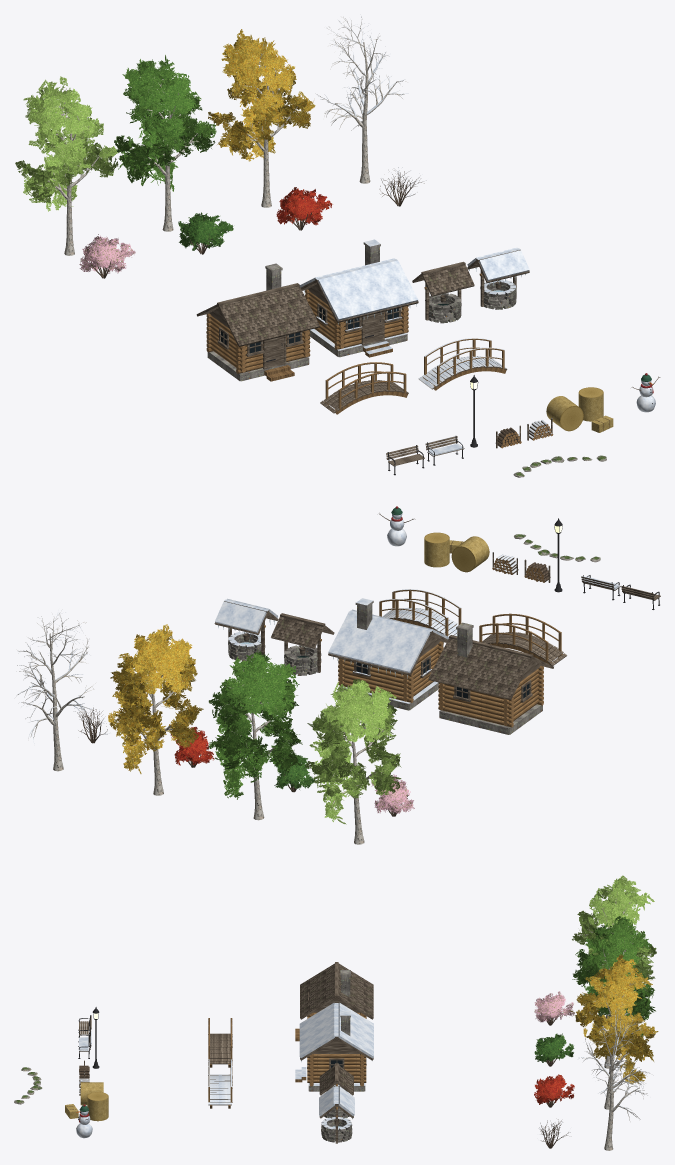
Rendered from realistic_props.glb.
3 renders of one model, top to bottom at view 1: azimuth 30°, elevation 25°; view 2: azimuth 150°, elevation 25°; view 3: azimuth 270°, elevation 25°, orthographic. The views are drawn at different scales.
Parts seen in each view (by area): view 1: Prop_Cabin_Mesh, Prop_Cabin_Winter_Mesh, Prop_Birch_Summer_Leaves, Prop_Birch_Autumn_Leaves, Prop_Birch_Spring_Leaves, Prop_Birch_Winter_Branches, Prop_Well_Winter_Mesh, Prop_Well_Mesh, Prop_Bridge_Mesh, Prop_Bridge_Winter_Mesh, Prop_HayBales_Mesh, Prop_Shrub_Autumn_Leaves (+5 smaller); view 2: Prop_Cabin_Mesh, Prop_Birch_Summer_Leaves, Prop_Birch_Autumn_Leaves, Prop_Cabin_Winter_Mesh, Prop_Birch_Spring_Leaves, Prop_Birch_Winter_Branches, Prop_Well_Winter_Mesh, Prop_Well_Mesh, Prop_Bridge_Mesh, Prop_HayBales_Mesh, Prop_Bridge_Winter_Mesh, Prop_Shrub_Spring_Leaves (+5 smaller); view 3: Prop_Birch_Autumn_Leaves, Prop_Cabin_Winter_Mesh, Prop_Birch_Summer_Leaves, Prop_Birch_Spring_Leaves, Prop_Cabin_Mesh, Prop_Birch_Winter_Branches, Prop_Well_Winter_Mesh, Prop_HayBales_Mesh, Prop_Bridge_Winter_Mesh, Prop_Well_Mesh, Prop_Bridge_Mesh, Prop_Shrub_Autumn_Leaves (+2 smaller).
Part boxes in pixels (left/top/right/bottom): Prop_Cabin_Mesh: left=196, top=263, right=319, bottom=381; Prop_Cabin_Winter_Mesh: left=299, top=239, right=418, bottom=357; Prop_Birch_Summer_Leaves: left=114, top=55, right=216, bottom=191; Prop_Birch_Autumn_Leaves: left=208, top=29, right=315, bottom=161; Prop_Birch_Spring_Leaves: left=15, top=76, right=118, bottom=211; Prop_Birch_Winter_Branches: left=316, top=16, right=408, bottom=183; Prop_Well_Winter_Mesh: left=467, top=247, right=529, bottom=309; Prop_Well_Mesh: left=412, top=261, right=474, bottom=323; Prop_Bridge_Mesh: left=320, top=362, right=408, bottom=414; Prop_Bridge_Winter_Mesh: left=418, top=338, right=507, bottom=390; Prop_HayBales_Mesh: left=546, top=387, right=613, bottom=432; Prop_Shrub_Autumn_Leaves: left=276, top=187, right=332, bottom=225; Prop_Cabin_Mesh: left=428, top=622, right=553, bottom=734; Prop_Birch_Summer_Leaves: left=208, top=650, right=302, bottom=799; Prop_Birch_Autumn_Leaves: left=108, top=624, right=203, bottom=773; Prop_Cabin_Winter_Mesh: left=328, top=598, right=448, bottom=710; Prop_Birch_Spring_Leaves: left=305, top=679, right=401, bottom=824; Prop_Birch_Winter_Branches: left=17, top=610, right=95, bottom=771; Prop_Well_Winter_Mesh: left=214, top=598, right=278, bottom=661; Prop_Well_Mesh: left=271, top=613, right=334, bottom=675; Prop_Bridge_Mesh: left=479, top=613, right=566, bottom=665; Prop_HayBales_Mesh: left=424, top=532, right=489, bottom=572; Prop_Bridge_Winter_Mesh: left=379, top=589, right=461, bottom=636; Prop_Shrub_Spring_Leaves: left=371, top=774, right=414, bottom=813; Prop_Birch_Autumn_Leaves: left=569, top=954, right=658, bottom=1083; Prop_Cabin_Winter_Mesh: left=295, top=1002, right=373, bottom=1091; Prop_Birch_Summer_Leaves: left=572, top=914, right=655, bottom=1037; Prop_Birch_Spring_Leaves: left=572, top=875, right=656, bottom=979; Prop_Cabin_Mesh: left=295, top=962, right=373, bottom=1041; Prop_Birch_Winter_Branches: left=579, top=1003, right=649, bottom=1150; Prop_Well_Winter_Mesh: left=319, top=1086, right=354, bottom=1143; Prop_HayBales_Mesh: left=65, top=1082, right=108, bottom=1121; Prop_Bridge_Winter_Mesh: left=208, top=1059, right=232, bottom=1108; Prop_Well_Mesh: left=319, top=1063, right=353, bottom=1118; Prop_Bridge_Mesh: left=208, top=1018, right=232, bottom=1067; Prop_Shrub_Autumn_Leaves: left=534, top=1074, right=574, bottom=1104.
Size of the model in its own units: 19.27 by 8.31 by 33.31.
Materials: 29 (18 with a texture image).
